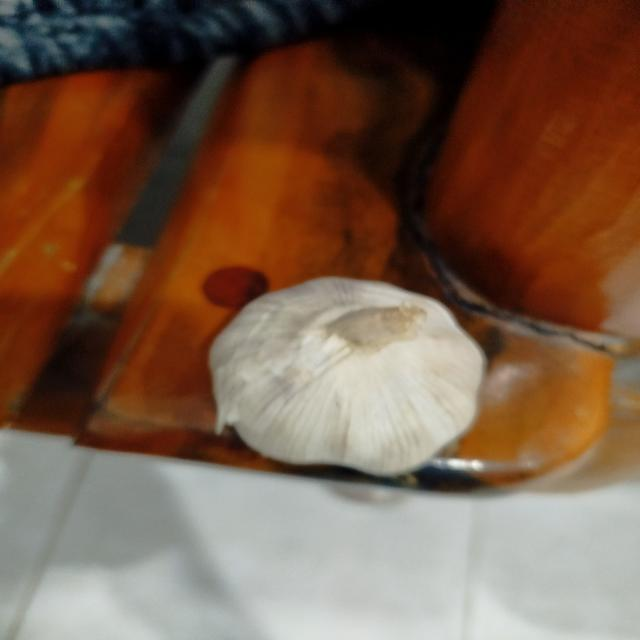garlic: (207, 275, 488, 478)
